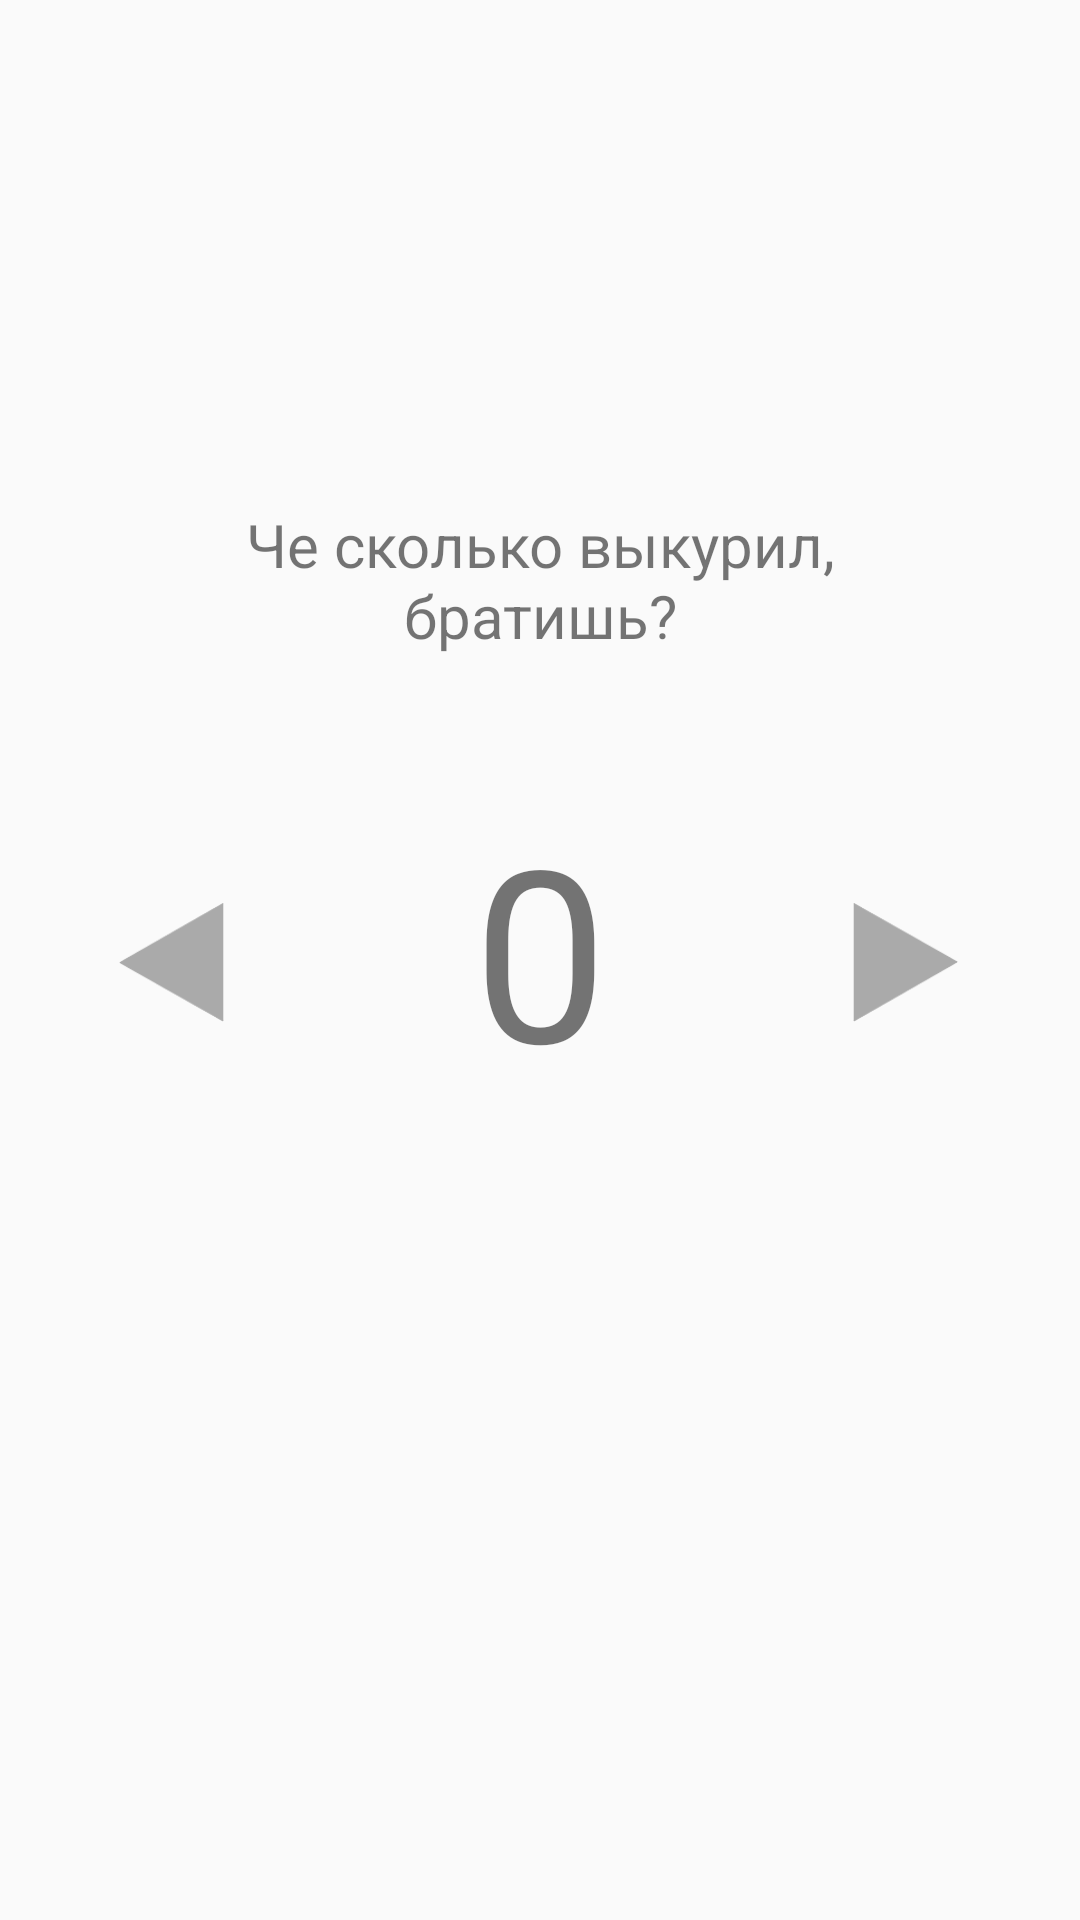

Icons on this 1080 × 1920 Android screen, each with its box as (x1, y1, x2, y2):
left arrow: (120, 903, 224, 1021)
right arrow: (853, 903, 957, 1021)
